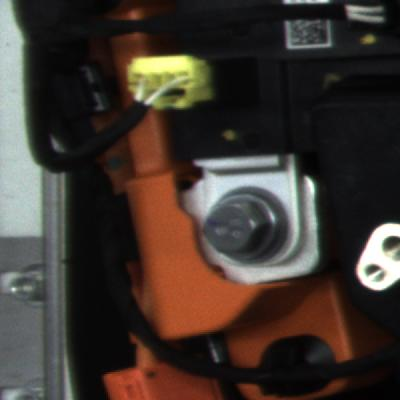nut_b: (196, 181, 294, 275)
